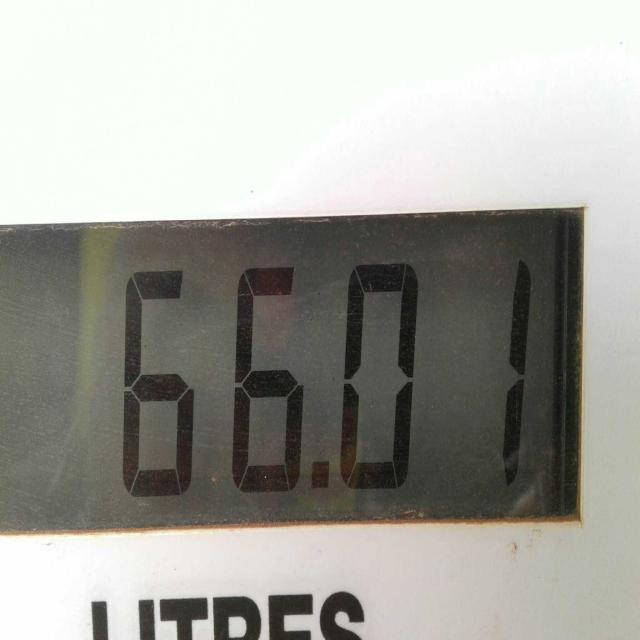.: (304, 444, 336, 504)
0: (330, 253, 430, 497)
1: (476, 257, 545, 497)
6: (106, 248, 206, 512), (220, 242, 308, 502)
